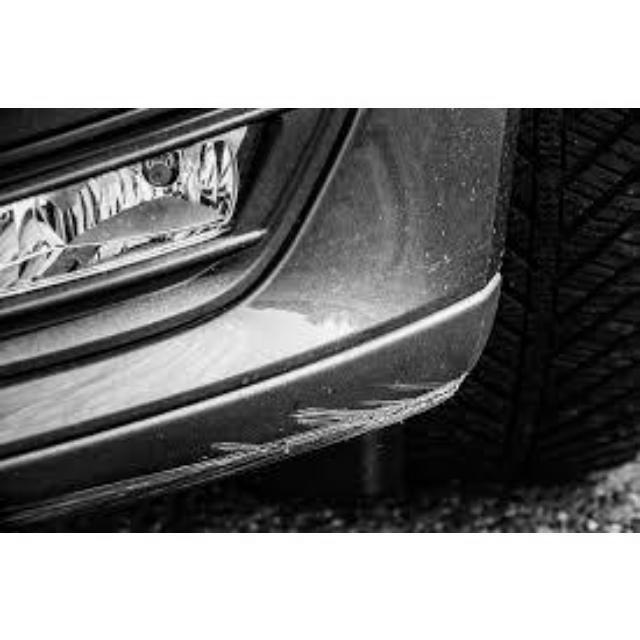front-bumper-dent: (1, 196, 526, 514)
